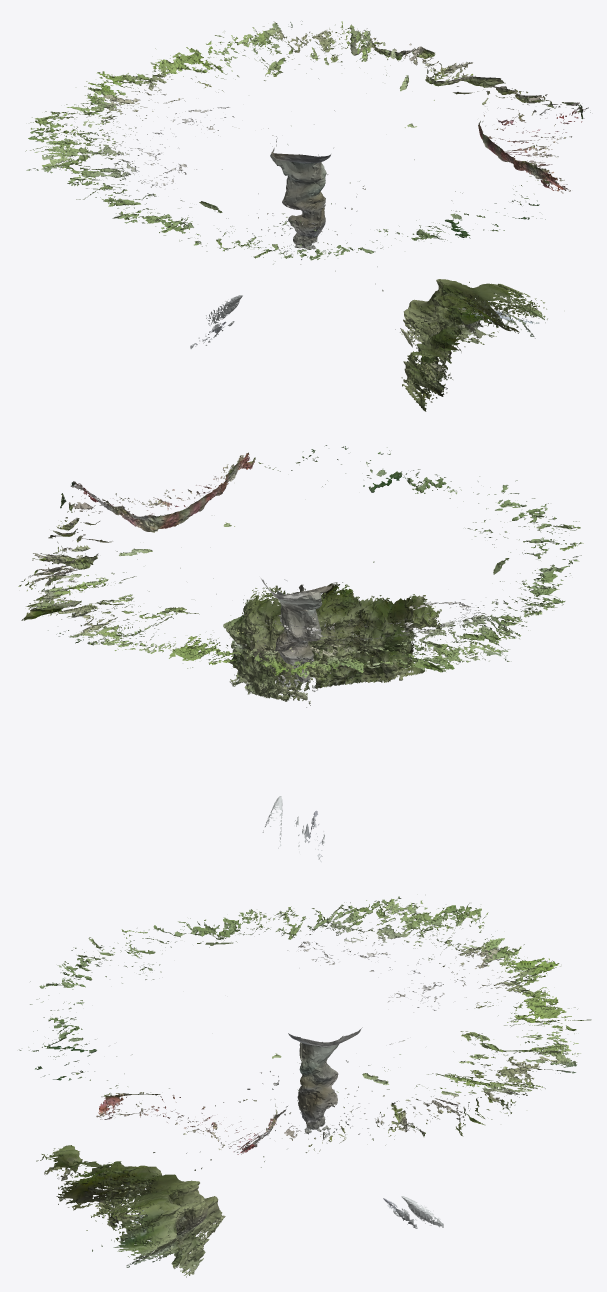
The model's file is tnt_ignatius.glb.
3 renders of one model, top to bottom at view 1: azimuth 30°, elevation 25°; view 2: azimuth 150°, elevation 25°; view 3: azimuth 270°, elevation 25°, orthographic. The views are drawn at different scales.
Parts seen in each view (by area): view 1: world; view 2: world; view 3: world.
Part boxes in pixels (box(x1,y1,x2,y2)): world: box(25, 21, 590, 411); world: box(18, 445, 583, 862); world: box(19, 896, 591, 1277).
Bounding box in the file's own units: 4.47 × 2.06 × 4.25.
